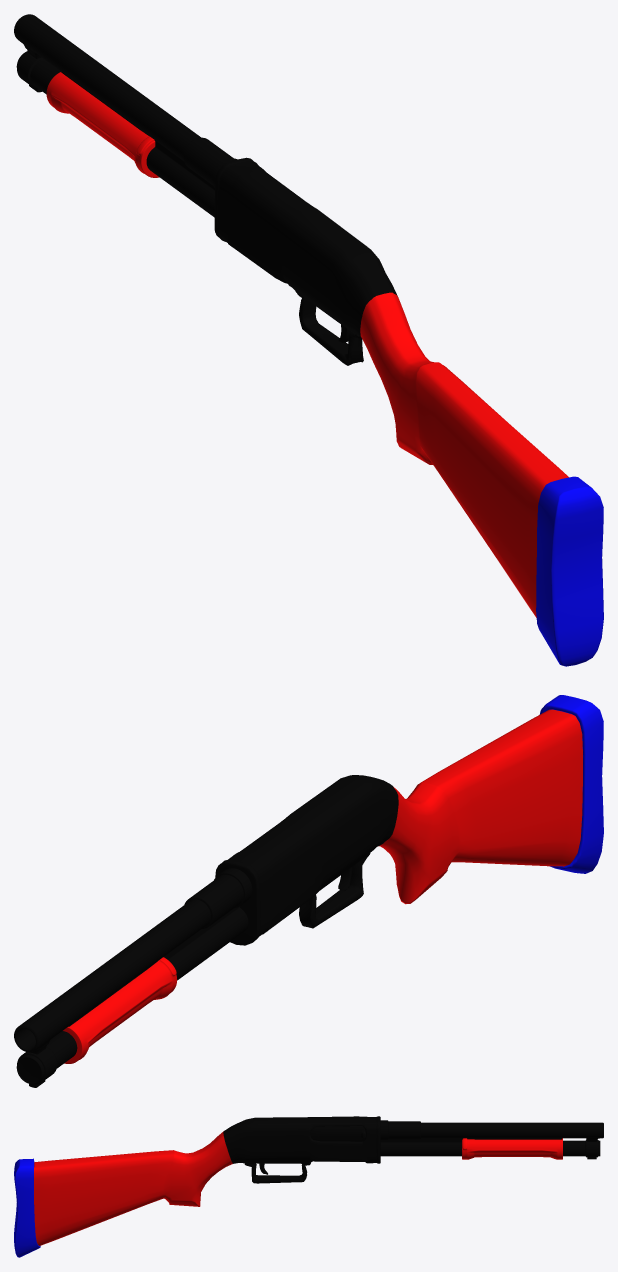
Rendered from escopeta id.obj.
The picture shows the model from 3 angles, top to bottom: view 1: azimuth 30°, elevation 25°; view 2: azimuth 150°, elevation 25°; view 3: azimuth 270°, elevation 25°; orthographic projection. The views are drawn at different scales.
Visible parts, largest first — view 1: escopeta:escopeta1:escopeta escopeta:polySurface11, escopeta:polySurface7 escopeta:escopeta1:escopeta, escopeta:escopeta1:escopeta escopeta:polySurface12, escopeta:escopeta1:escopeta escopeta:polySurface9; view 2: escopeta:escopeta1:escopeta escopeta:polySurface11, escopeta:polySurface7 escopeta:escopeta1:escopeta, escopeta:escopeta1:escopeta escopeta:polySurface9, escopeta:escopeta1:escopeta escopeta:polySurface12; view 3: escopeta:escopeta1:escopeta escopeta:polySurface11, escopeta:polySurface7 escopeta:escopeta1:escopeta, escopeta:escopeta1:escopeta escopeta:polySurface9, escopeta:escopeta1:escopeta escopeta:polySurface12, escopeta:escopeta1:escopeta escopeta:polySurface1.
Part boxes in pixels (bbox=[...]): escopeta:escopeta1:escopeta escopeta:polySurface11: bbox=[214, 157, 603, 666]; escopeta:polySurface7 escopeta:escopeta1:escopeta: bbox=[14, 14, 237, 187]; escopeta:escopeta1:escopeta escopeta:polySurface12: bbox=[46, 72, 159, 177]; escopeta:escopeta1:escopeta escopeta:polySurface9: bbox=[16, 51, 214, 217]; escopeta:escopeta1:escopeta escopeta:polySurface11: bbox=[215, 695, 603, 945]; escopeta:polySurface7 escopeta:escopeta1:escopeta: bbox=[14, 868, 252, 1087]; escopeta:escopeta1:escopeta escopeta:polySurface9: bbox=[16, 906, 248, 1084]; escopeta:escopeta1:escopeta escopeta:polySurface12: bbox=[63, 957, 177, 1063]; escopeta:escopeta1:escopeta escopeta:polySurface11: bbox=[14, 1116, 380, 1257]; escopeta:polySurface7 escopeta:escopeta1:escopeta: bbox=[380, 1120, 603, 1159]; escopeta:escopeta1:escopeta escopeta:polySurface9: bbox=[380, 1138, 600, 1157]; escopeta:escopeta1:escopeta escopeta:polySurface12: bbox=[462, 1138, 562, 1159]; escopeta:escopeta1:escopeta escopeta:polySurface1: bbox=[310, 1126, 365, 1141].
Bounding box in the file's own units: 84.76 × 404 × 1580.
